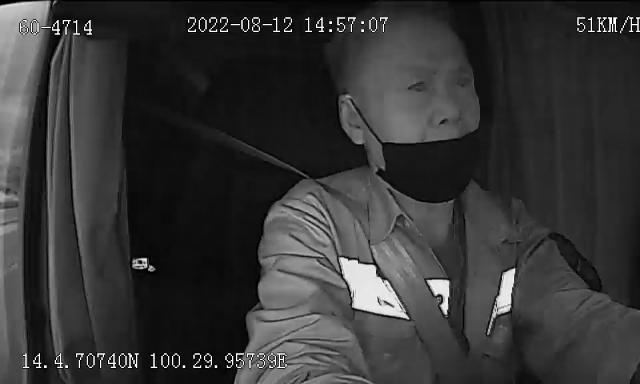SafeDriving: (398, 68, 436, 100), (442, 68, 476, 99)
Seatbelt: (218, 132, 470, 384)
